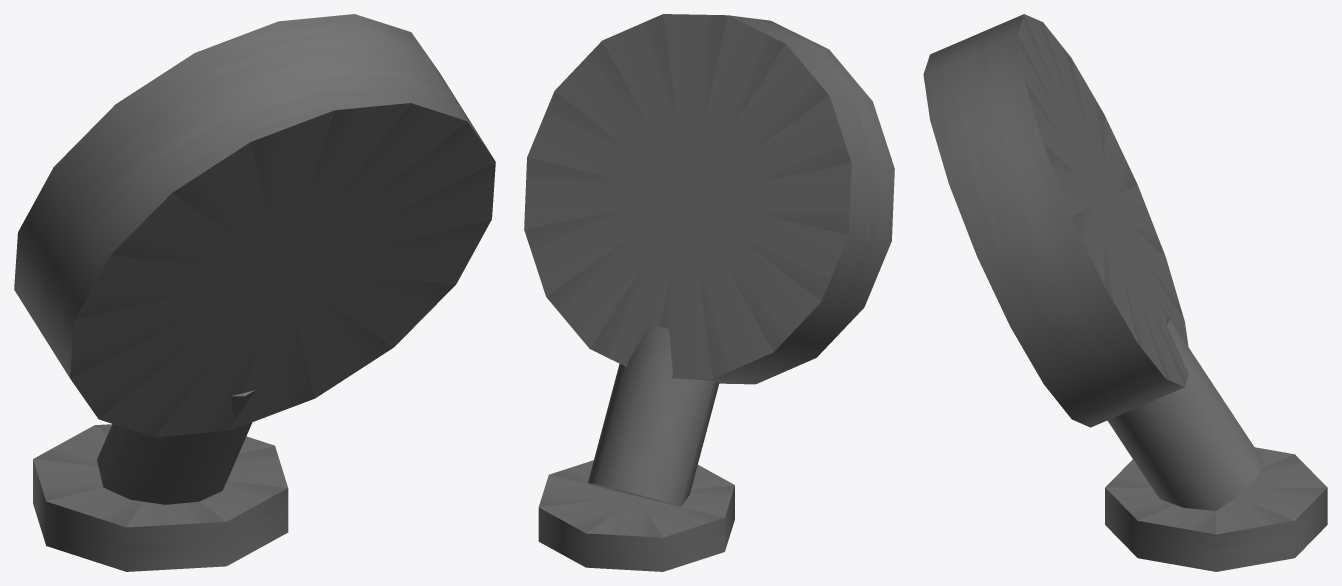
File: mastarmcurve_4x1_c0_down.obj
3 renders of one model, left to right at view 1: azimuth 30°, elevation 25°; view 2: azimuth 150°, elevation 25°; view 3: azimuth 270°, elevation 25°, orthographic. The views are drawn at different scales.
Parts seen in each view (by area): view 1: mastarm_4x1_c0_down; view 2: mastarm_4x1_c0_down; view 3: mastarm_4x1_c0_down.
Boxes of the visible parts, <box> form: mastarm_4x1_c0_down: <box>14,14,495,571</box>; mastarm_4x1_c0_down: <box>524,14,894,571</box>; mastarm_4x1_c0_down: <box>923,14,1327,571</box>.
Size of the model in its own units: 0.7308 by 0.974 by 0.7268.
